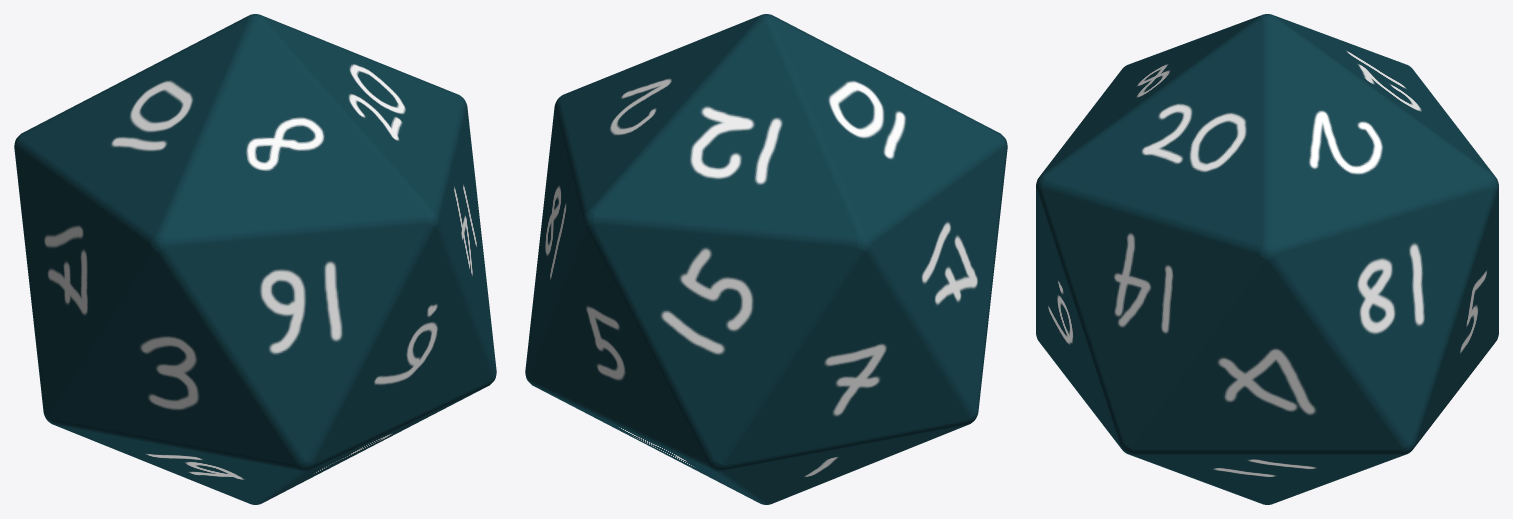
3 renders of one model, left to right at view 1: azimuth 30°, elevation 25°; view 2: azimuth 150°, elevation 25°; view 3: azimuth 270°, elevation 25°, orthographic.
Visible parts, largest first — view 1: d20_model; view 2: d20_model; view 3: d20_model.
Boxes of the visible parts, x1,y1,x2,y2 form: d20_model: [14, 14, 496, 504]; d20_model: [525, 14, 1007, 504]; d20_model: [1036, 14, 1498, 504].
Size of what is drawn, in the model's own units: 0.379 by 0.4208 by 0.3616.
Materials: 1 (1 with a texture image).
